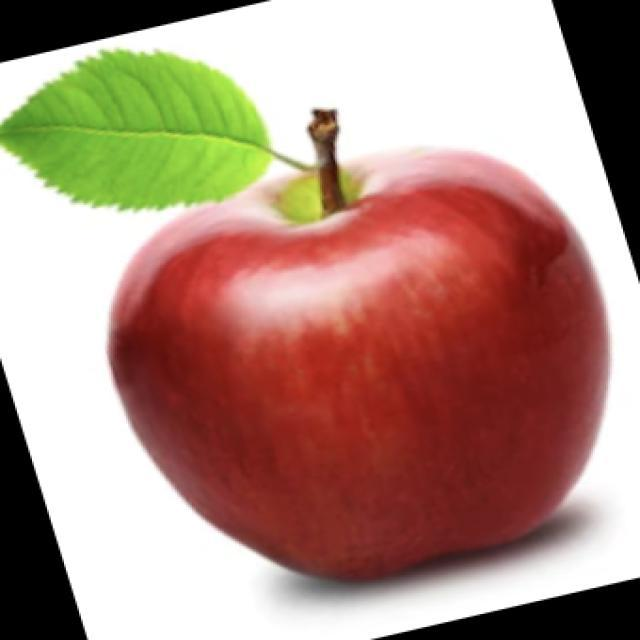Apple: (105, 106, 611, 582)
